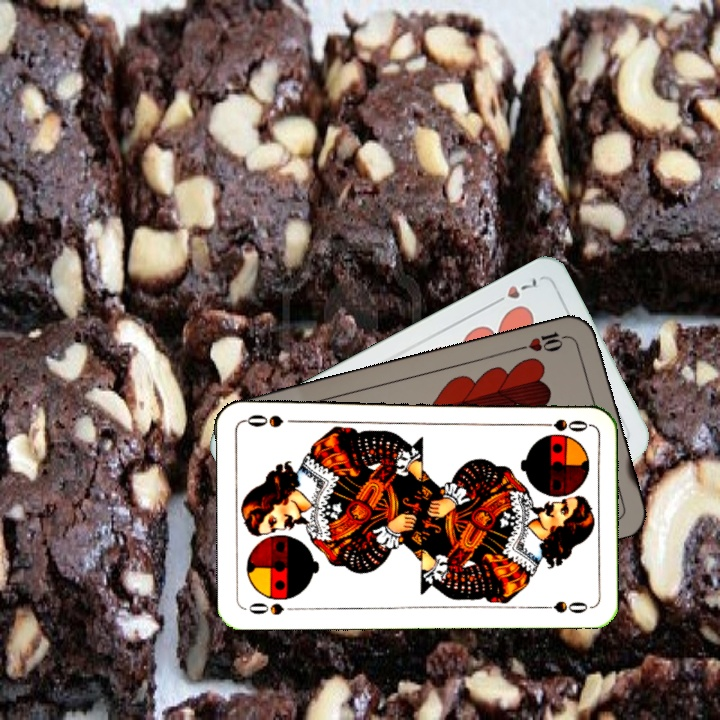H10: (515, 327, 574, 355)
H7: (488, 273, 542, 308)
SO: (242, 598, 301, 618), (531, 415, 590, 434)
